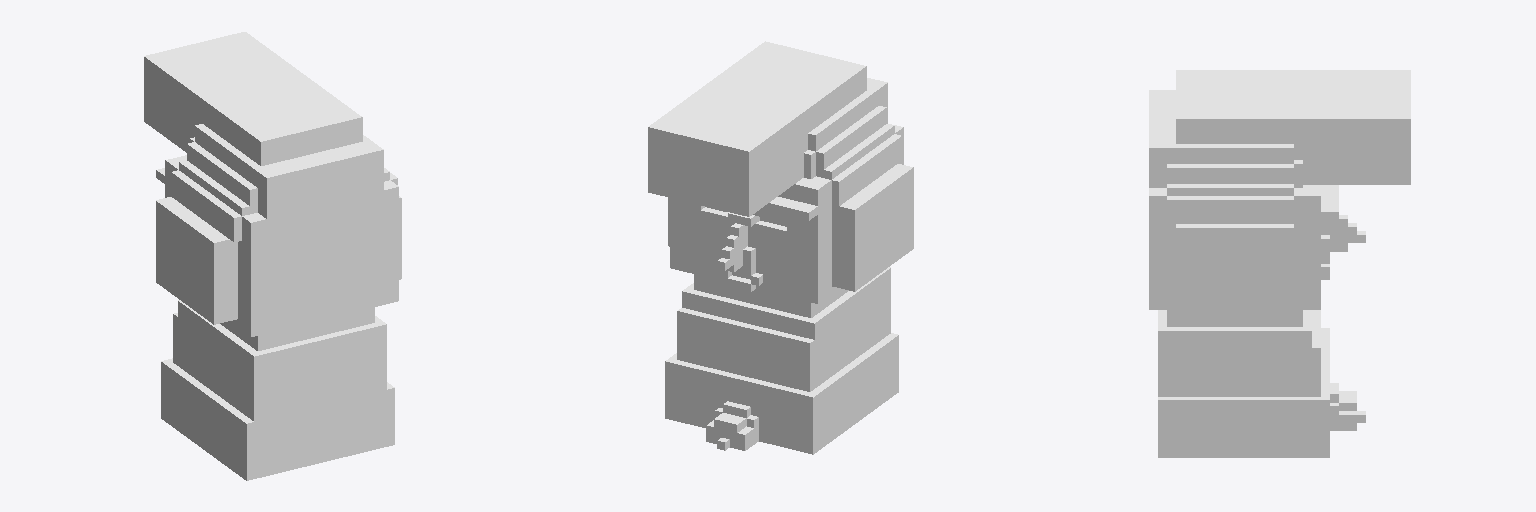
The model's file is Hyowon.obj.
3 renders of one model, left to right at view 1: azimuth 30°, elevation 25°; view 2: azimuth 150°, elevation 25°; view 3: azimuth 270°, elevation 25°, orthographic.
Parts seen in each view (by area): view 1: object 1; view 2: object 1; view 3: object 1.
Part boxes in pixels (x1,y1,x2,y2): object 1: (144, 32, 401, 480); object 1: (648, 41, 913, 454); object 1: (1149, 70, 1410, 457).
Bounding box in the file's own units: 2.4 × 4 × 2.9.